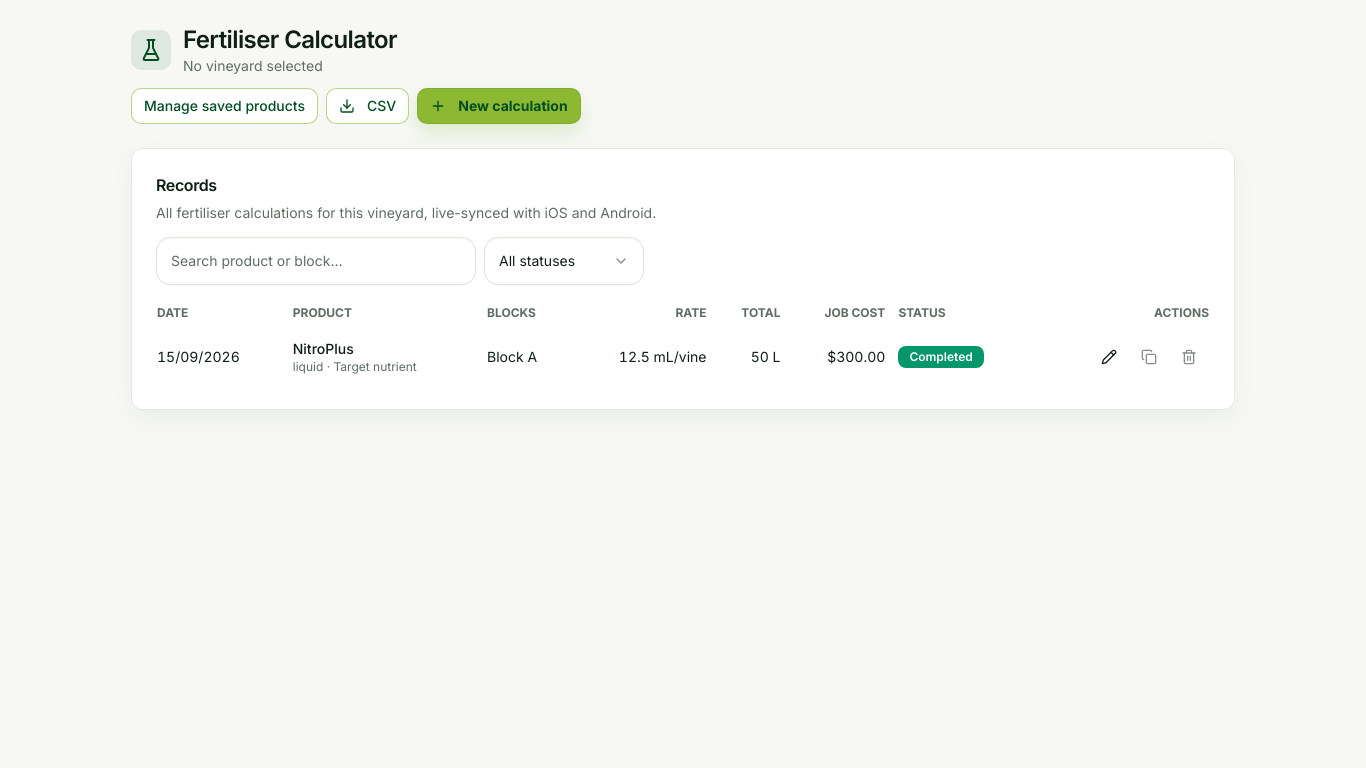
it: opening an unsupported record › shows a read-only view with the notice and stored values, and never saves
The width and height of the screenshot is (1366, 768).
Click the button titled "View (read-only". click: coordinates (1109, 357)
box: x1=1089 y1=337 x2=1129 y2=377
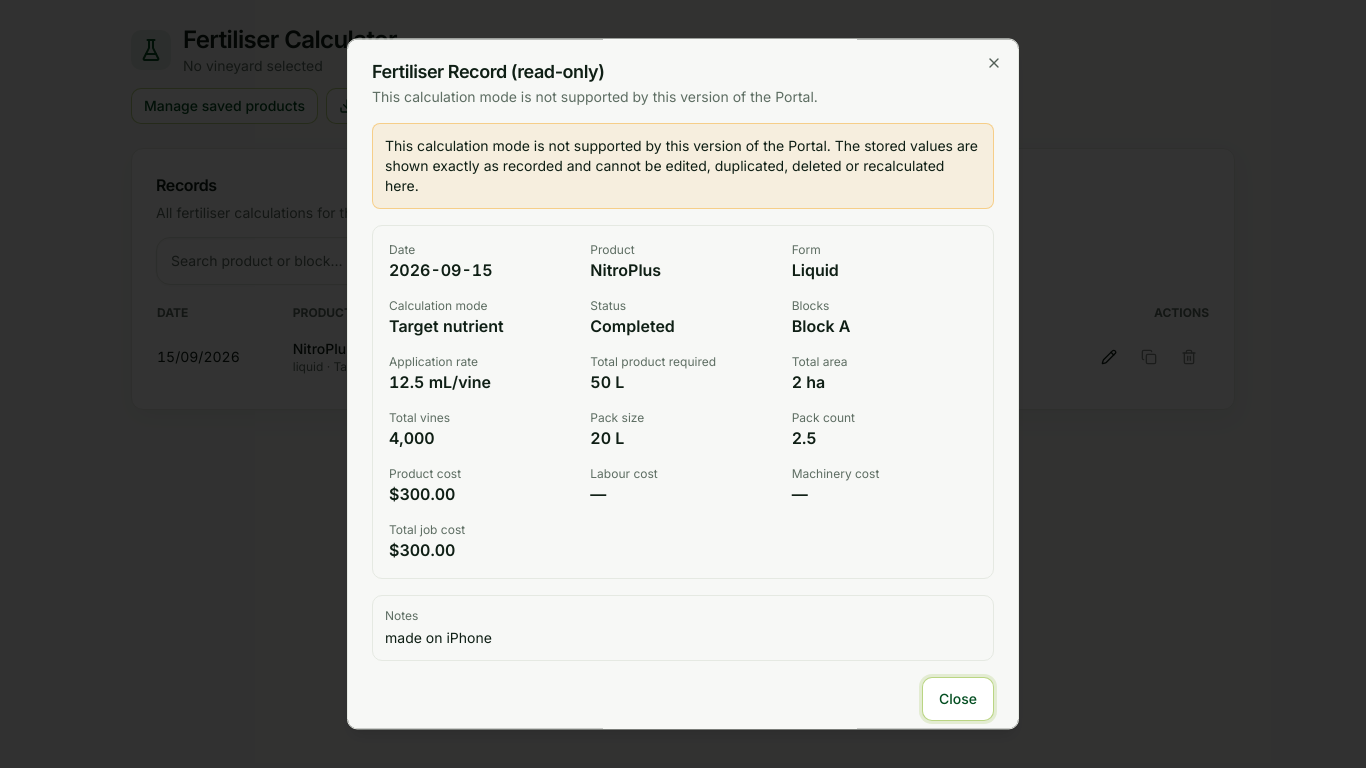
expect the text "This calculation mode is not s" is shown: met, box x1=372 y1=88 x2=818 y2=105
expect the heading "Fertiliser Record (read-only)" is shown: met, box x1=372 y1=61 x2=604 y2=82
expect the text "NitroPlus" is shown: met, box x1=590 y1=260 x2=661 y2=280
